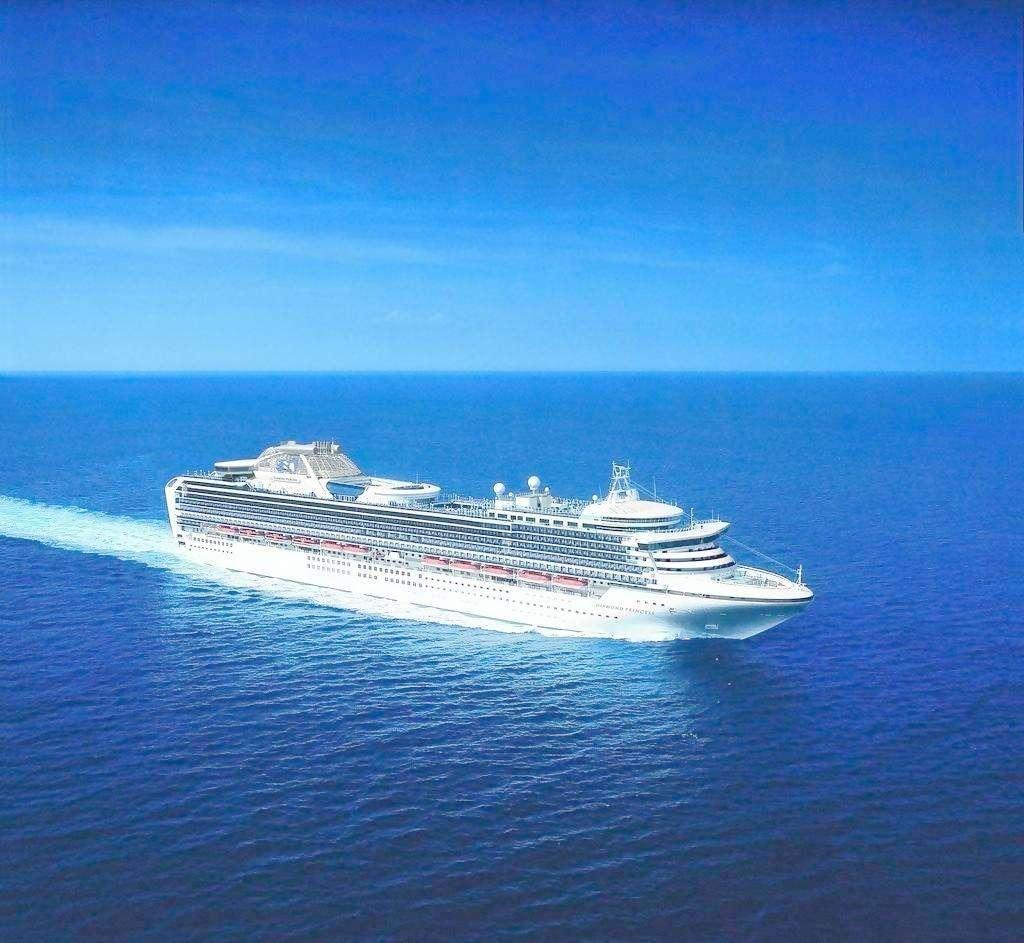youlun: (159, 435, 816, 640)
